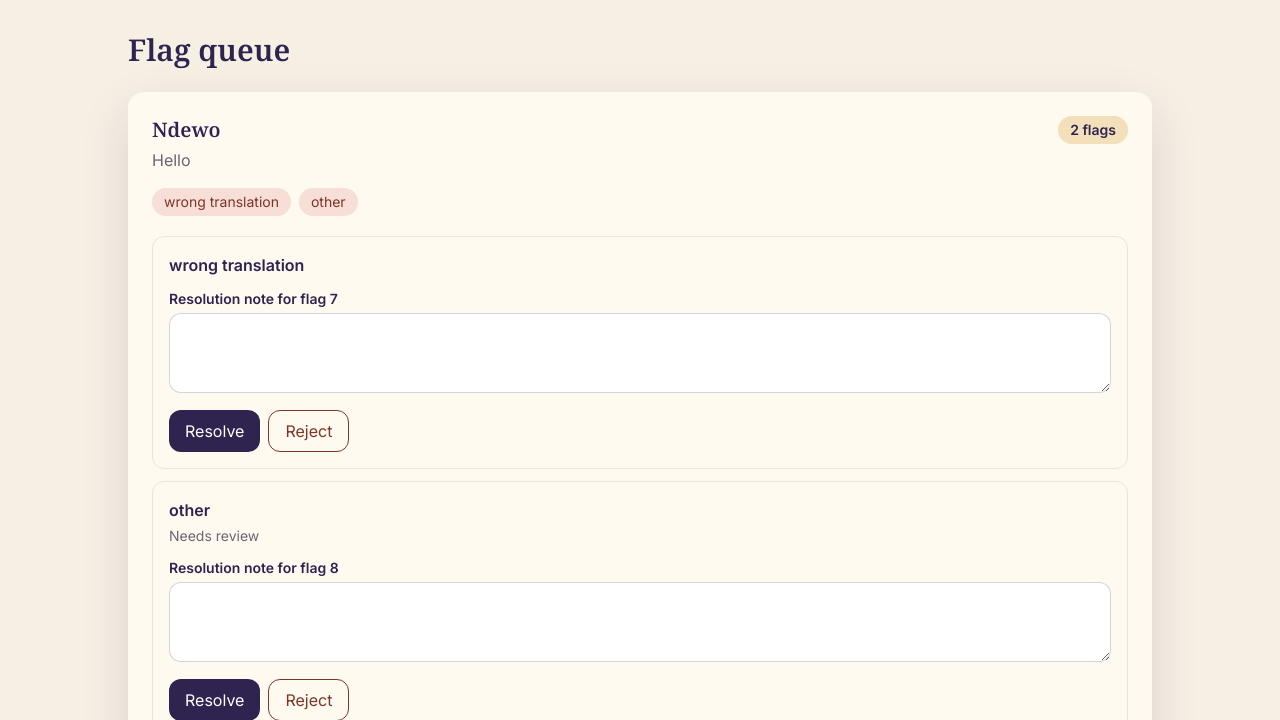
AdminRoute › handles a 409 as already resolved and refreshes the affected item
Click the button with aria-label "Resolve flag 7" at (215, 431), box [169,410,260,452]
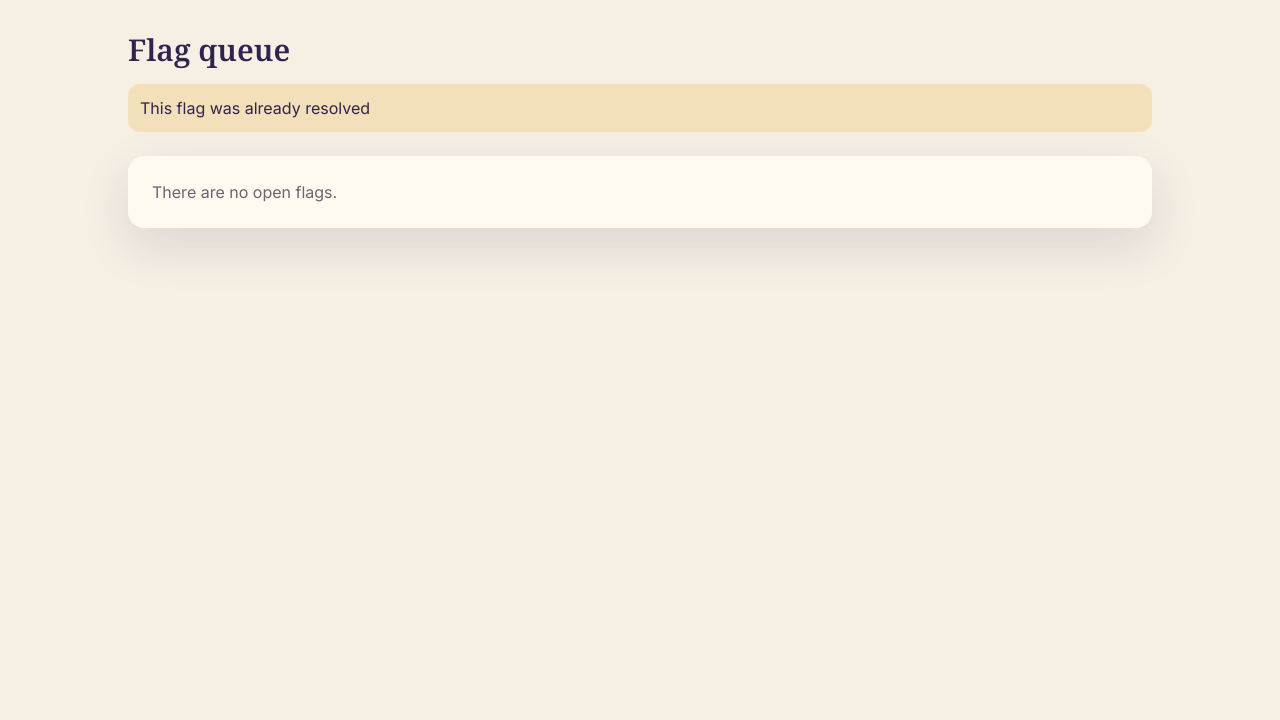
Result: the text "This flag was already resolved" is shown at [128,84,1152,132]
Result: the heading "Ndewo" is gone
